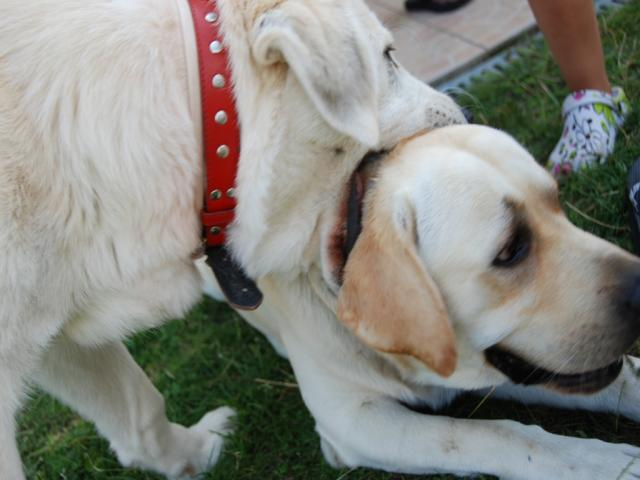Dog: (0, 0, 471, 480), (192, 126, 640, 480)
